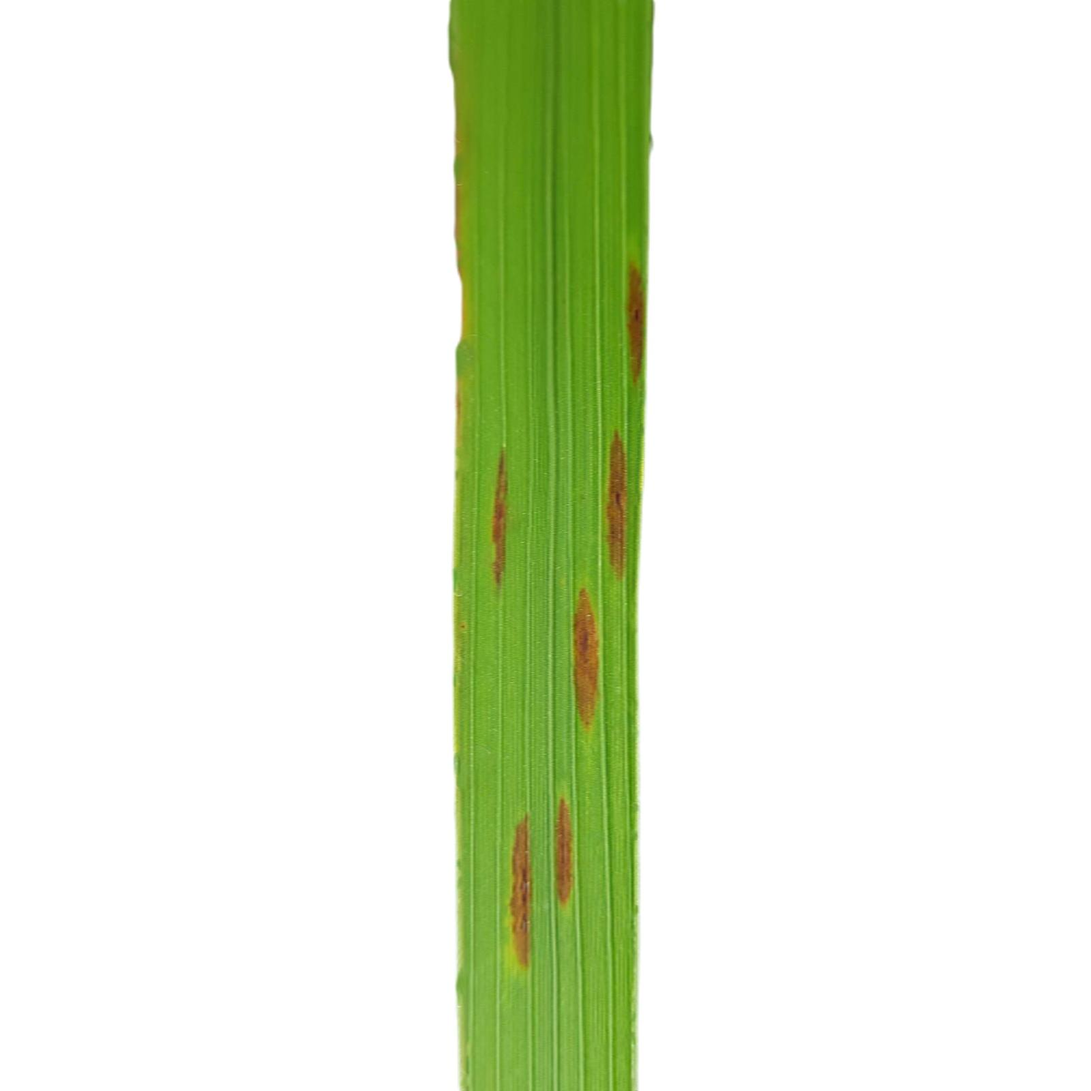LEAF: (451, 0, 653, 1090)
NBS: (573, 588, 599, 729), (509, 815, 531, 968), (606, 430, 627, 577), (492, 448, 507, 587), (627, 264, 644, 383), (556, 796, 573, 906)
